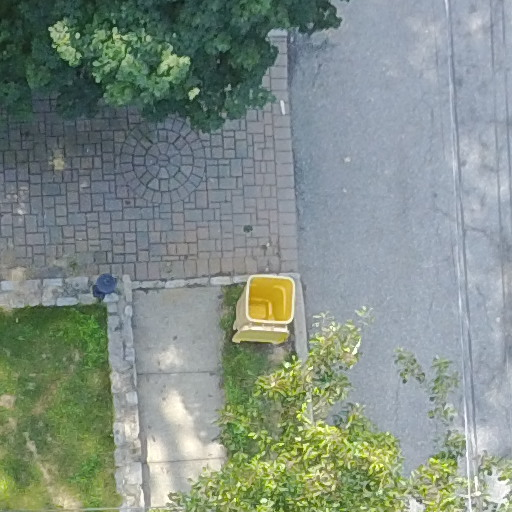trash bin: (231, 258, 316, 357)
